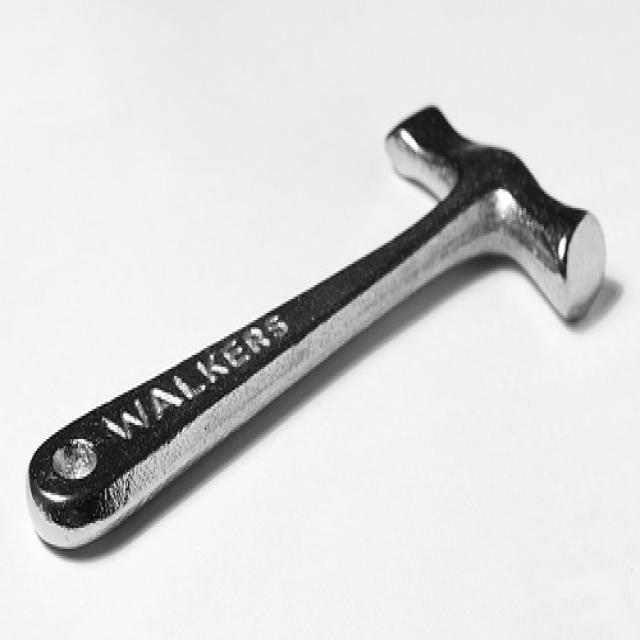hammer: (70, 78, 633, 394)
